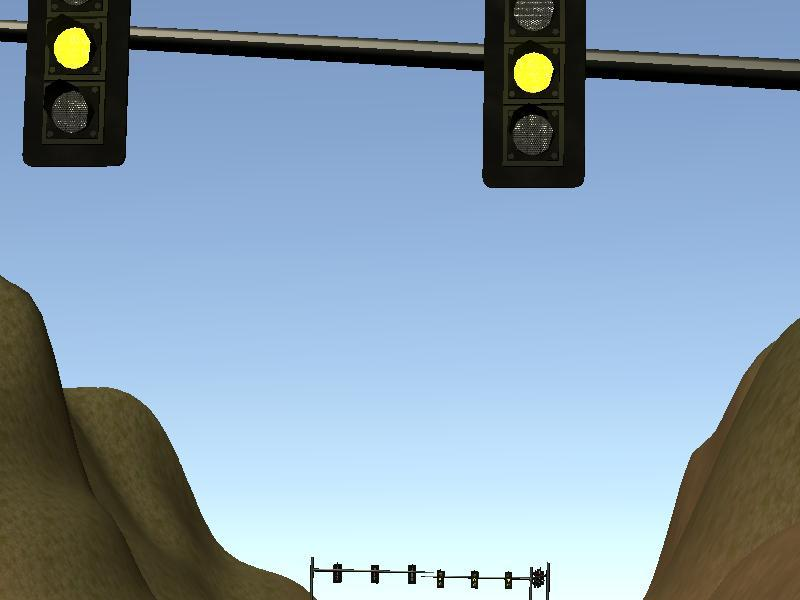Yellow: (488, 1, 586, 182), (22, 1, 128, 163)
